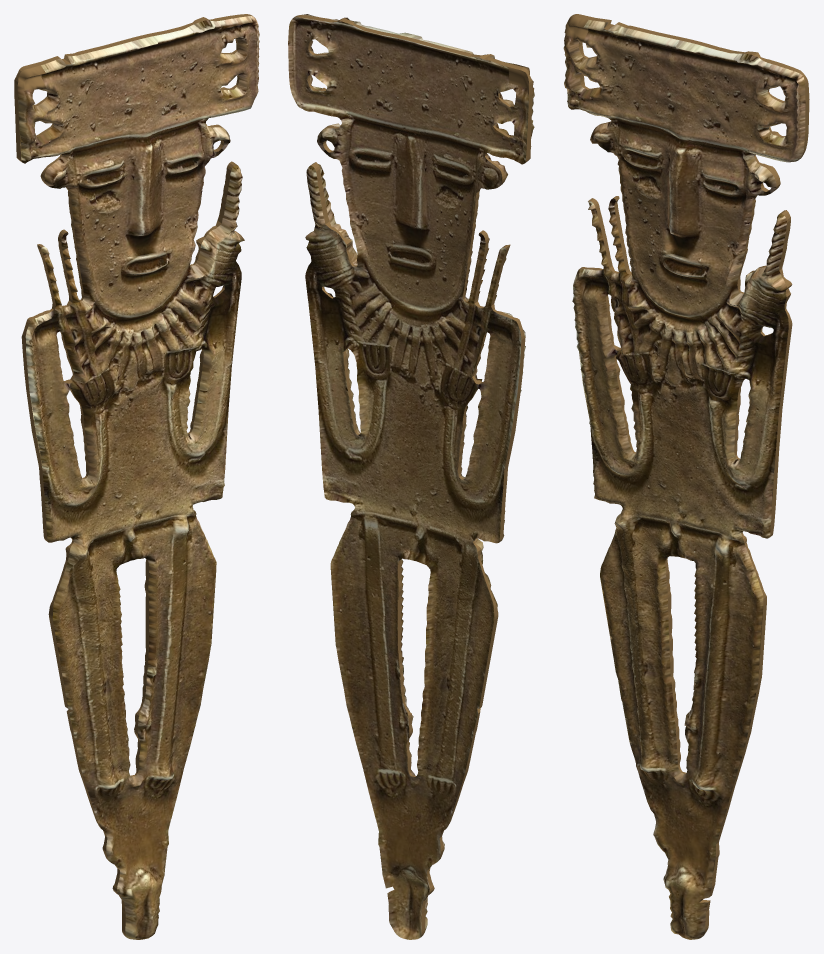
Rendered from figura_masculina_tunjo_1991.glb.
3 renders of one model, left to right at view 1: azimuth 30°, elevation 25°; view 2: azimuth 150°, elevation 25°; view 3: azimuth 330°, elevation 25°, orthographic.
Visible parts, largest first — view 1: figura_masculina_tunjo_1991; view 2: figura_masculina_tunjo_1991; view 3: figura_masculina_tunjo_1991.
Boxes of the visible parts, x1,y1,x2,y2 form: figura_masculina_tunjo_1991: [14, 14, 259, 939]; figura_masculina_tunjo_1991: [288, 14, 534, 939]; figura_masculina_tunjo_1991: [563, 14, 809, 939].
Size of the model in its own units: 2.94 by 10.52 by 0.3437.
Materials: 1 (1 with a texture image).
